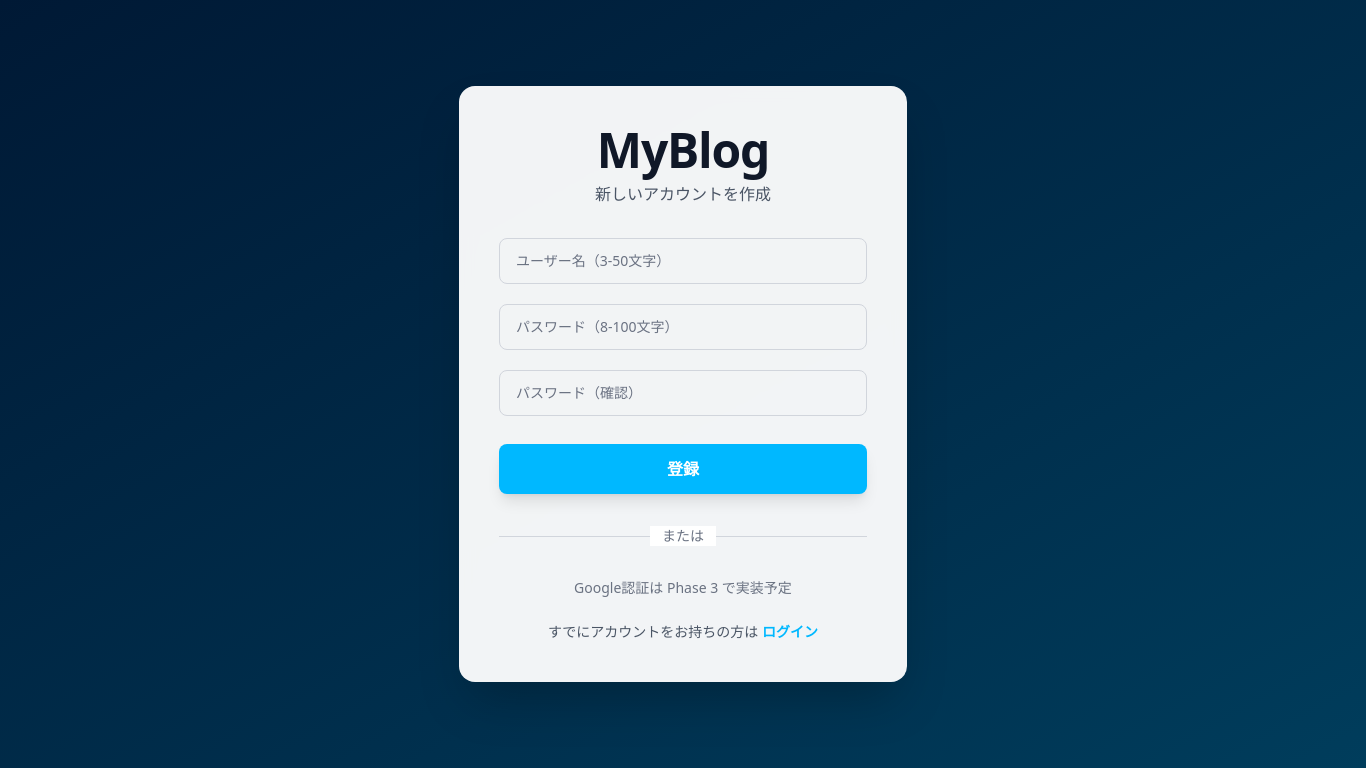
RegisterPage › バリデーション › パスワードが一致しない場合、バリデーションエラーが表示される
Expected: the password field with placeholder "パスワード（8-100文字）" is shown, [499,304,867,350]
Type "testuser" into the field with placeholder "ユーザー名（3-50文字）" at (683, 261), box [499,238,867,284]
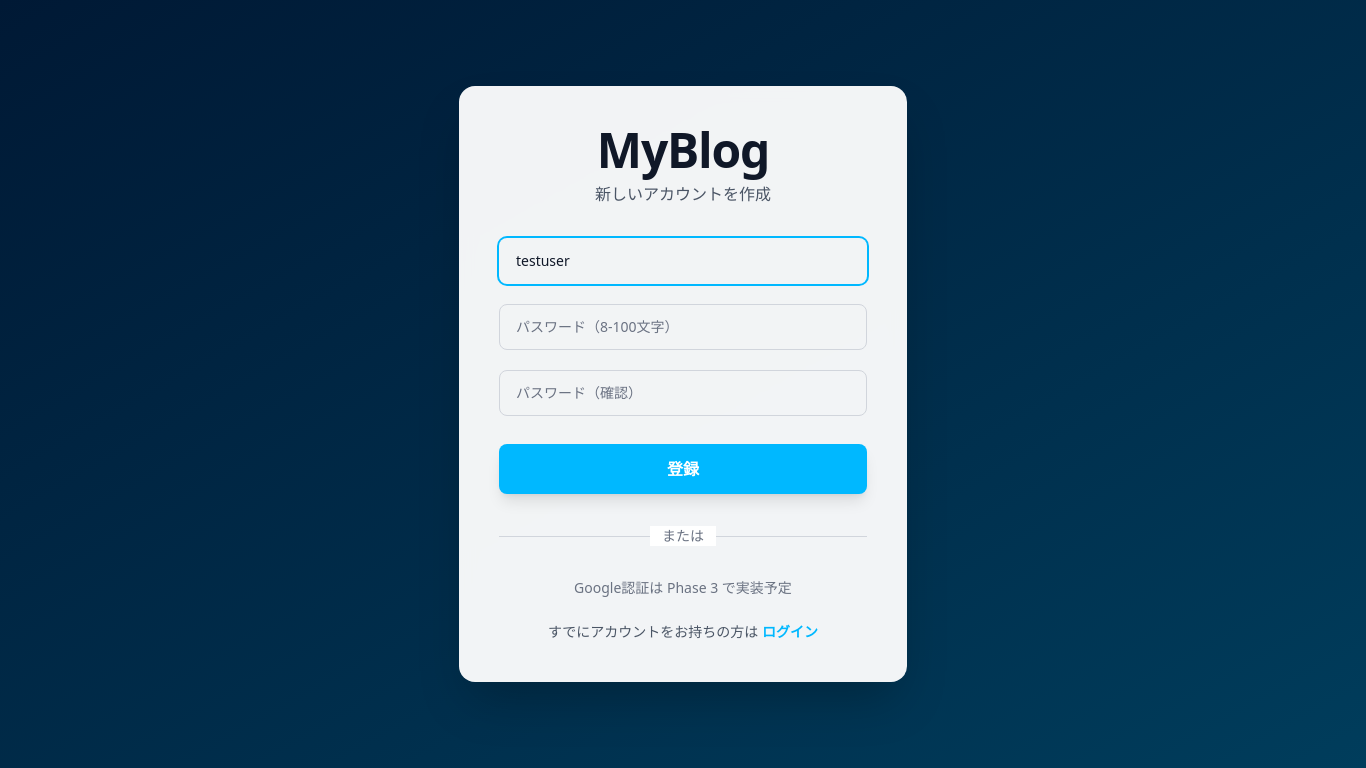
Type "password123" into the password field with placeholder "パスワード（8-100文字）" at (683, 327), box [499,304,867,350]
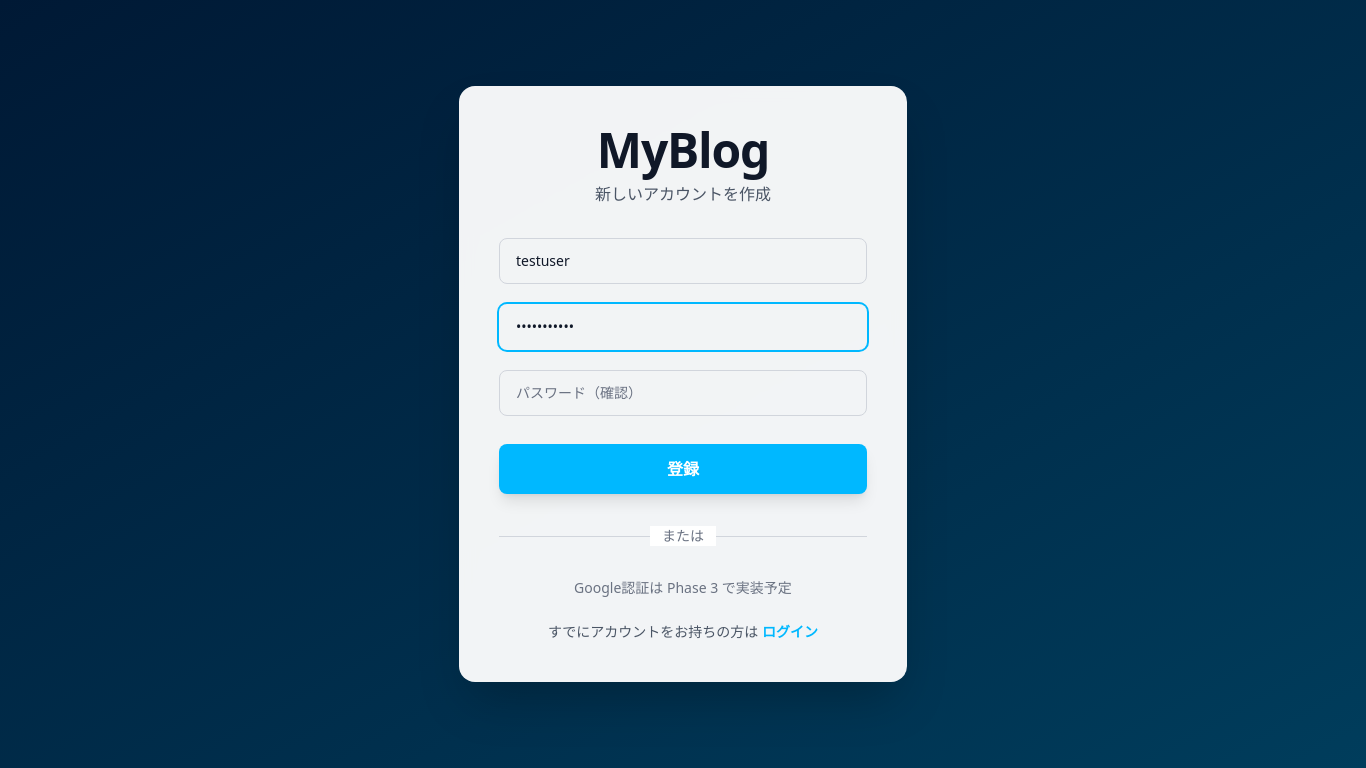
Type "password456" into the password field with placeholder "パスワード（確認）" at (683, 393), box [499,370,867,416]
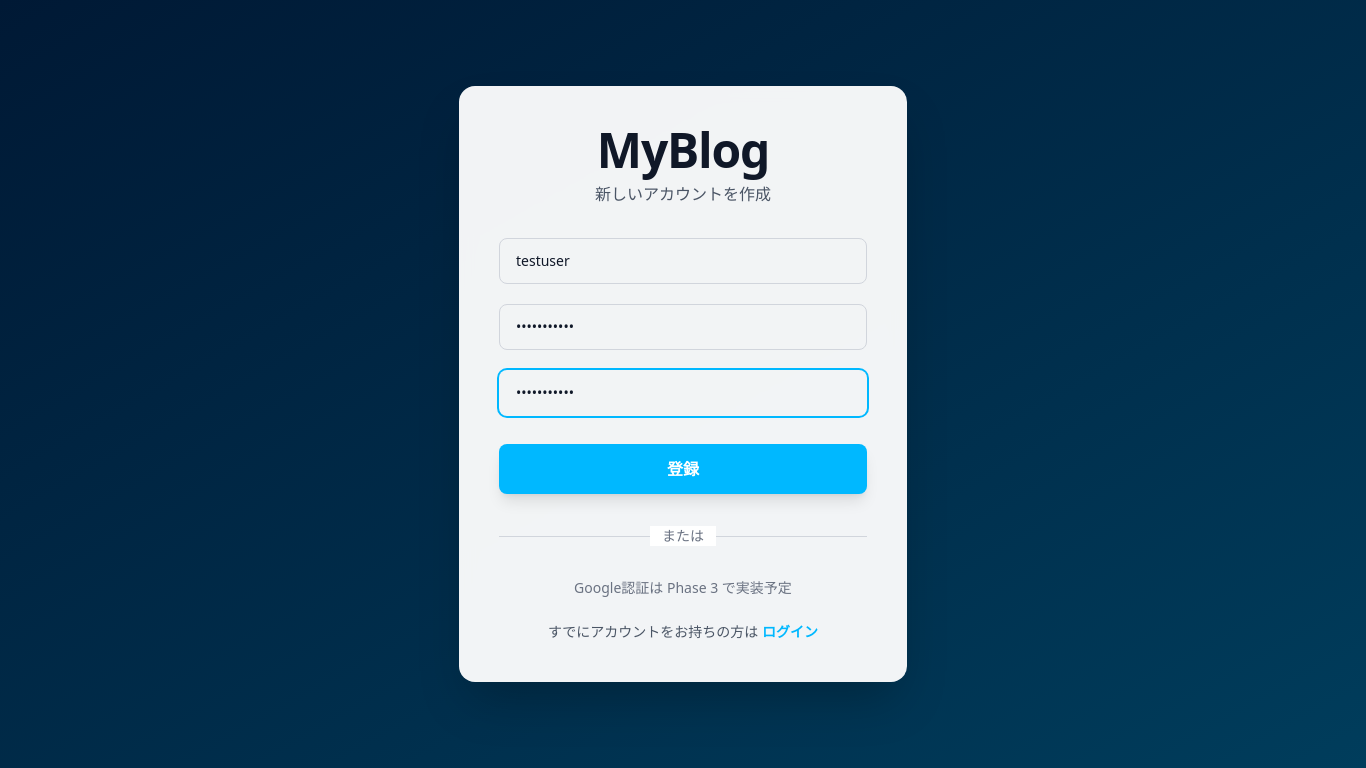
Click the button "登録" at (683, 469), box [499,444,867,494]
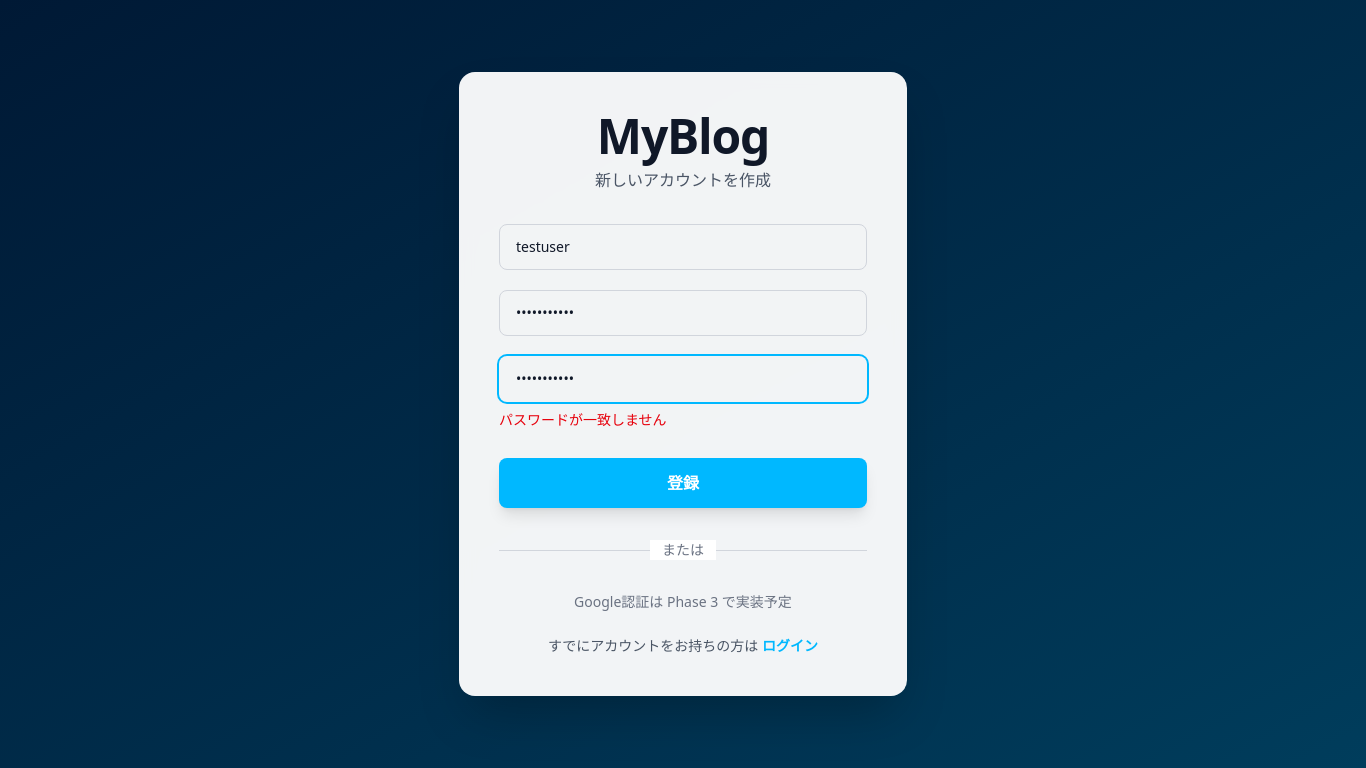
Expected: the text "パスワードが一致しません" is shown, [499,410,667,429]
